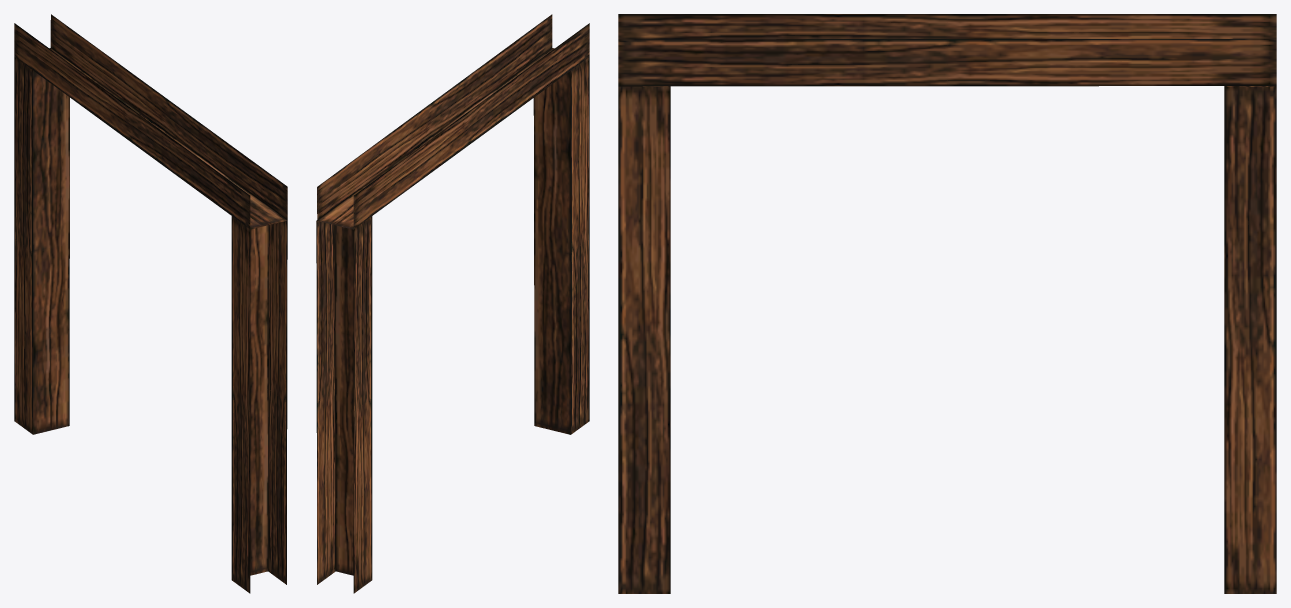
File: LAKETOWN_PUB_PS_PUB_DOORARCH_373738.fbx
3 renders of one model, left to right at view 1: azimuth 30°, elevation 25°; view 2: azimuth 150°, elevation 25°; view 3: azimuth 270°, elevation 25°, orthographic. The views are drawn at different scales.
Parts seen in each view (by area): view 1: LAKETOWN_PUB_PS_PUB_DOORARCH_373738; view 2: LAKETOWN_PUB_PS_PUB_DOORARCH_373738; view 3: LAKETOWN_PUB_PS_PUB_DOORARCH_373738.
Part boxes in pixels (x1=…): LAKETOWN_PUB_PS_PUB_DOORARCH_373738: x1=14, y1=14, x2=287, y2=593; LAKETOWN_PUB_PS_PUB_DOORARCH_373738: x1=316, y1=14, x2=589, y2=593; LAKETOWN_PUB_PS_PUB_DOORARCH_373738: x1=618, y1=14, x2=1276, y2=593.
Size of the model in its own units: 1990 by 20367 by 21881.
Materials: 1 (1 with a texture image).
